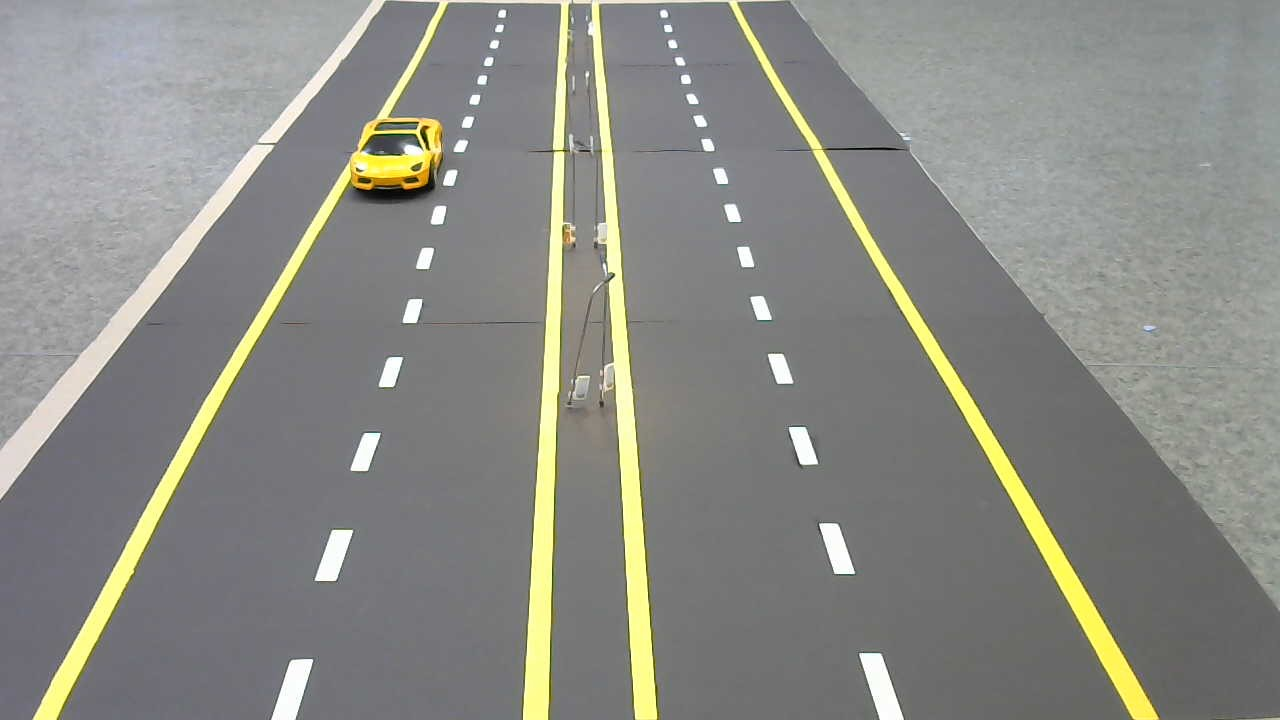front_car: (349, 114, 448, 202)
